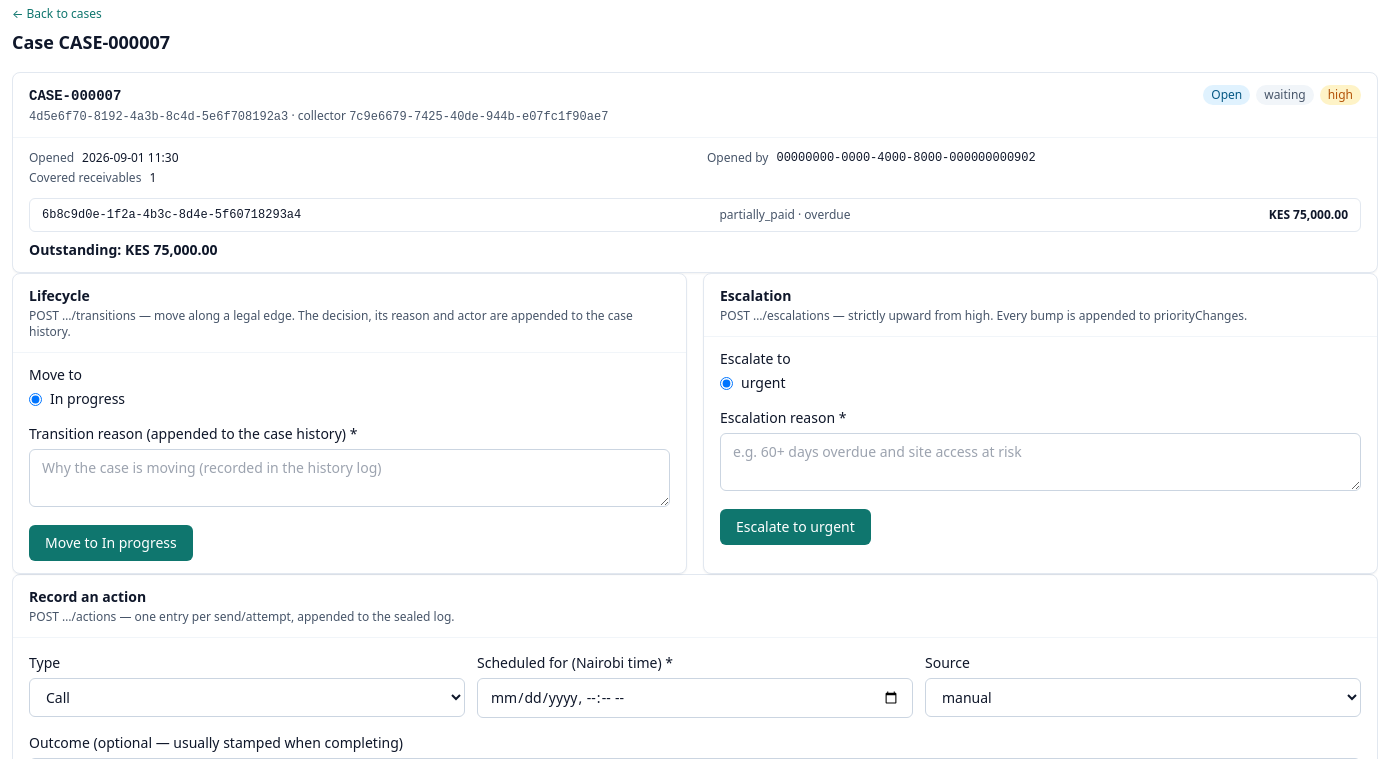
Test case: CaseDetailView write integration (transition) › replaces the case view with the server post-transition answer — badge flips without optimistic invention
Check: the text with test id "case-status-badge" reads "Open", box 1211,86 -> 1242,103
Step 1. Type "collector engaged" into the text box labelled "Transition reason (appended to the case history) *" → (350, 478), box 29,449 -> 670,507
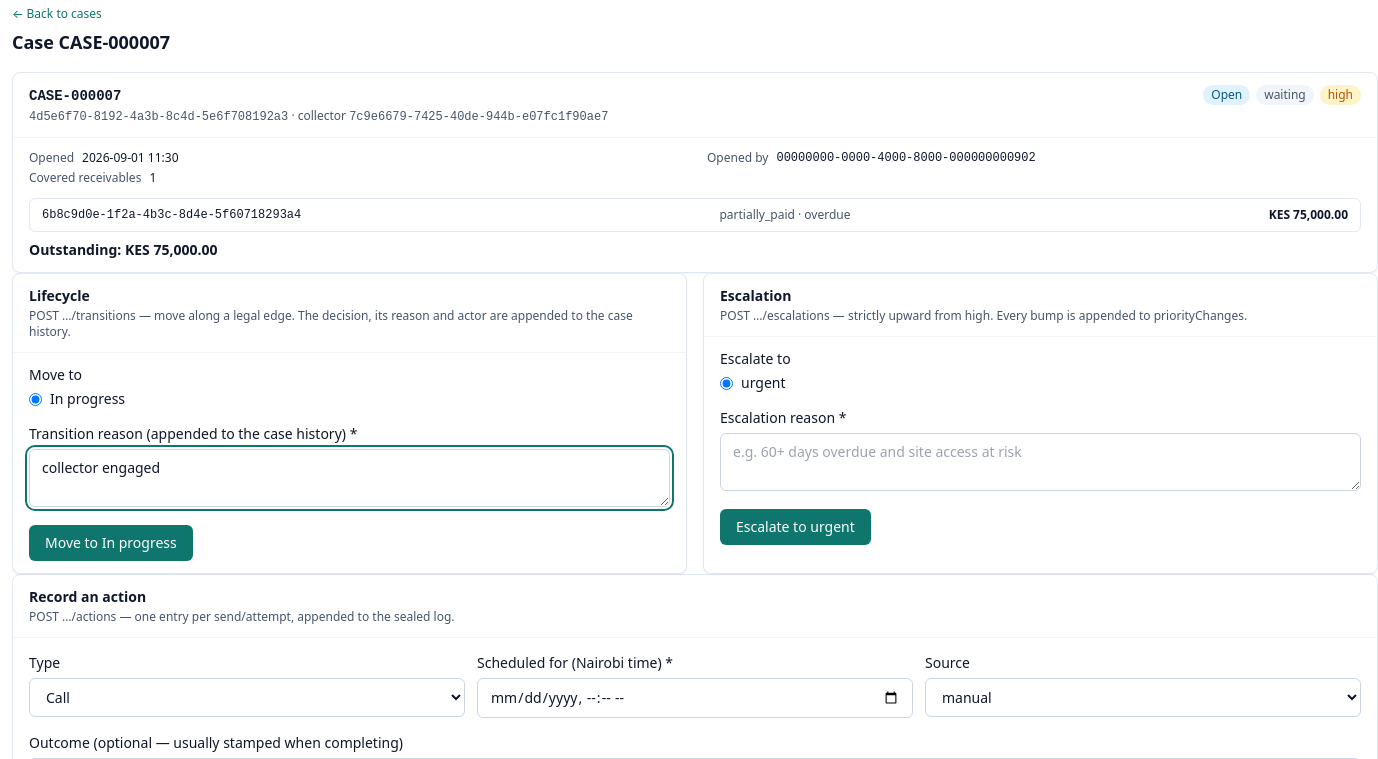
Step 2. Click the button "Move to In progress" → (111, 543), box 29,525 -> 193,561
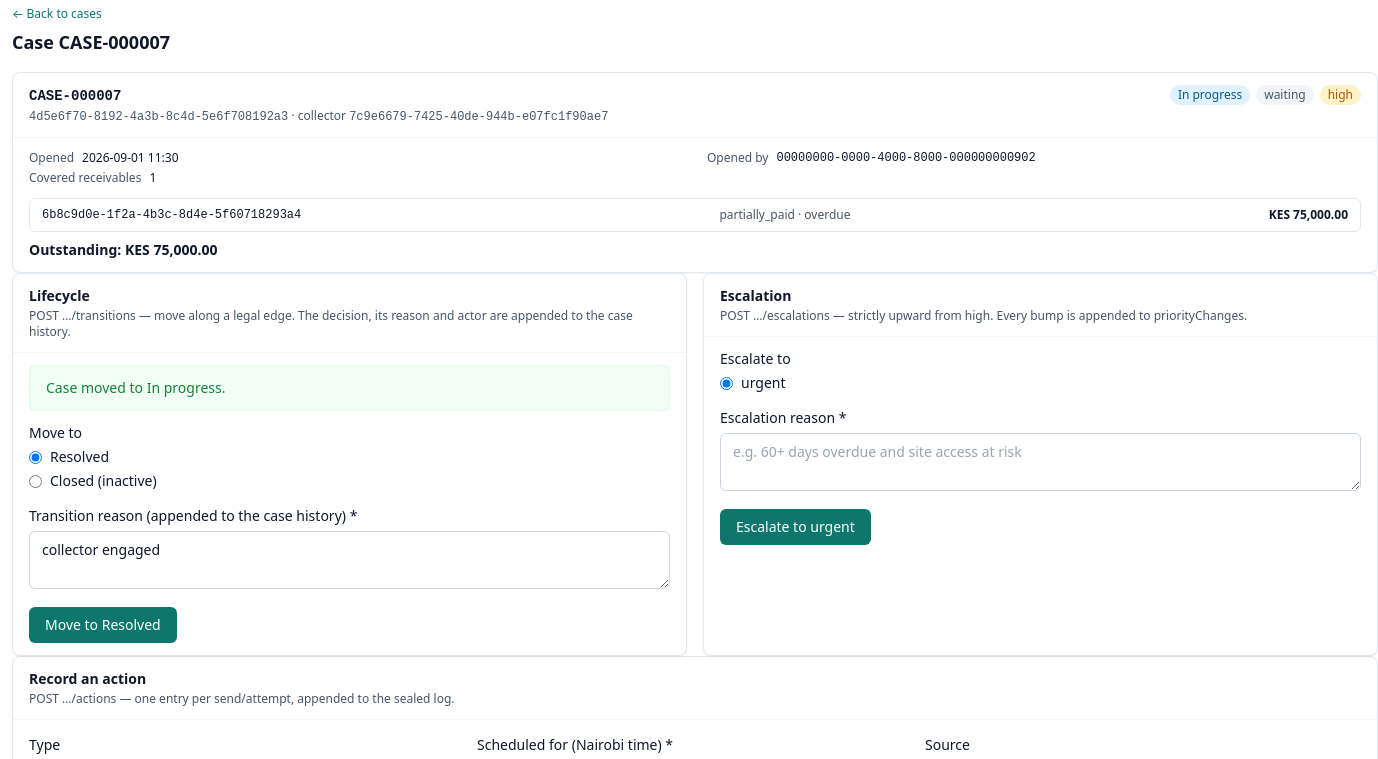
Check: the text with test id "case-status-badge" reads "In progress", box 1178,86 -> 1242,103
Check: the message with test id "case-transition-success" reads "Case moved to In progress.", box 46,378 -> 225,397
Check: the button "Move to Resolved" is shown, box 29,607 -> 177,643
